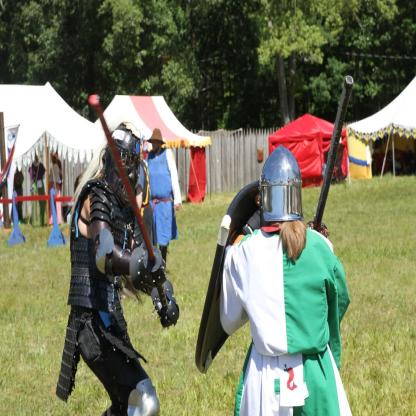Helmet: (253, 155, 310, 240), (100, 122, 142, 201)
